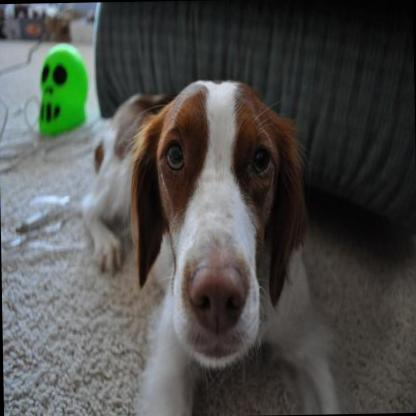Brittany_spaniel: (76, 70, 351, 416)
